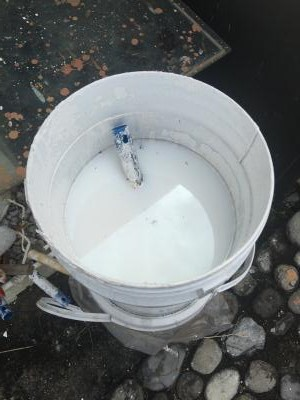bucket: (23, 68, 276, 329)
